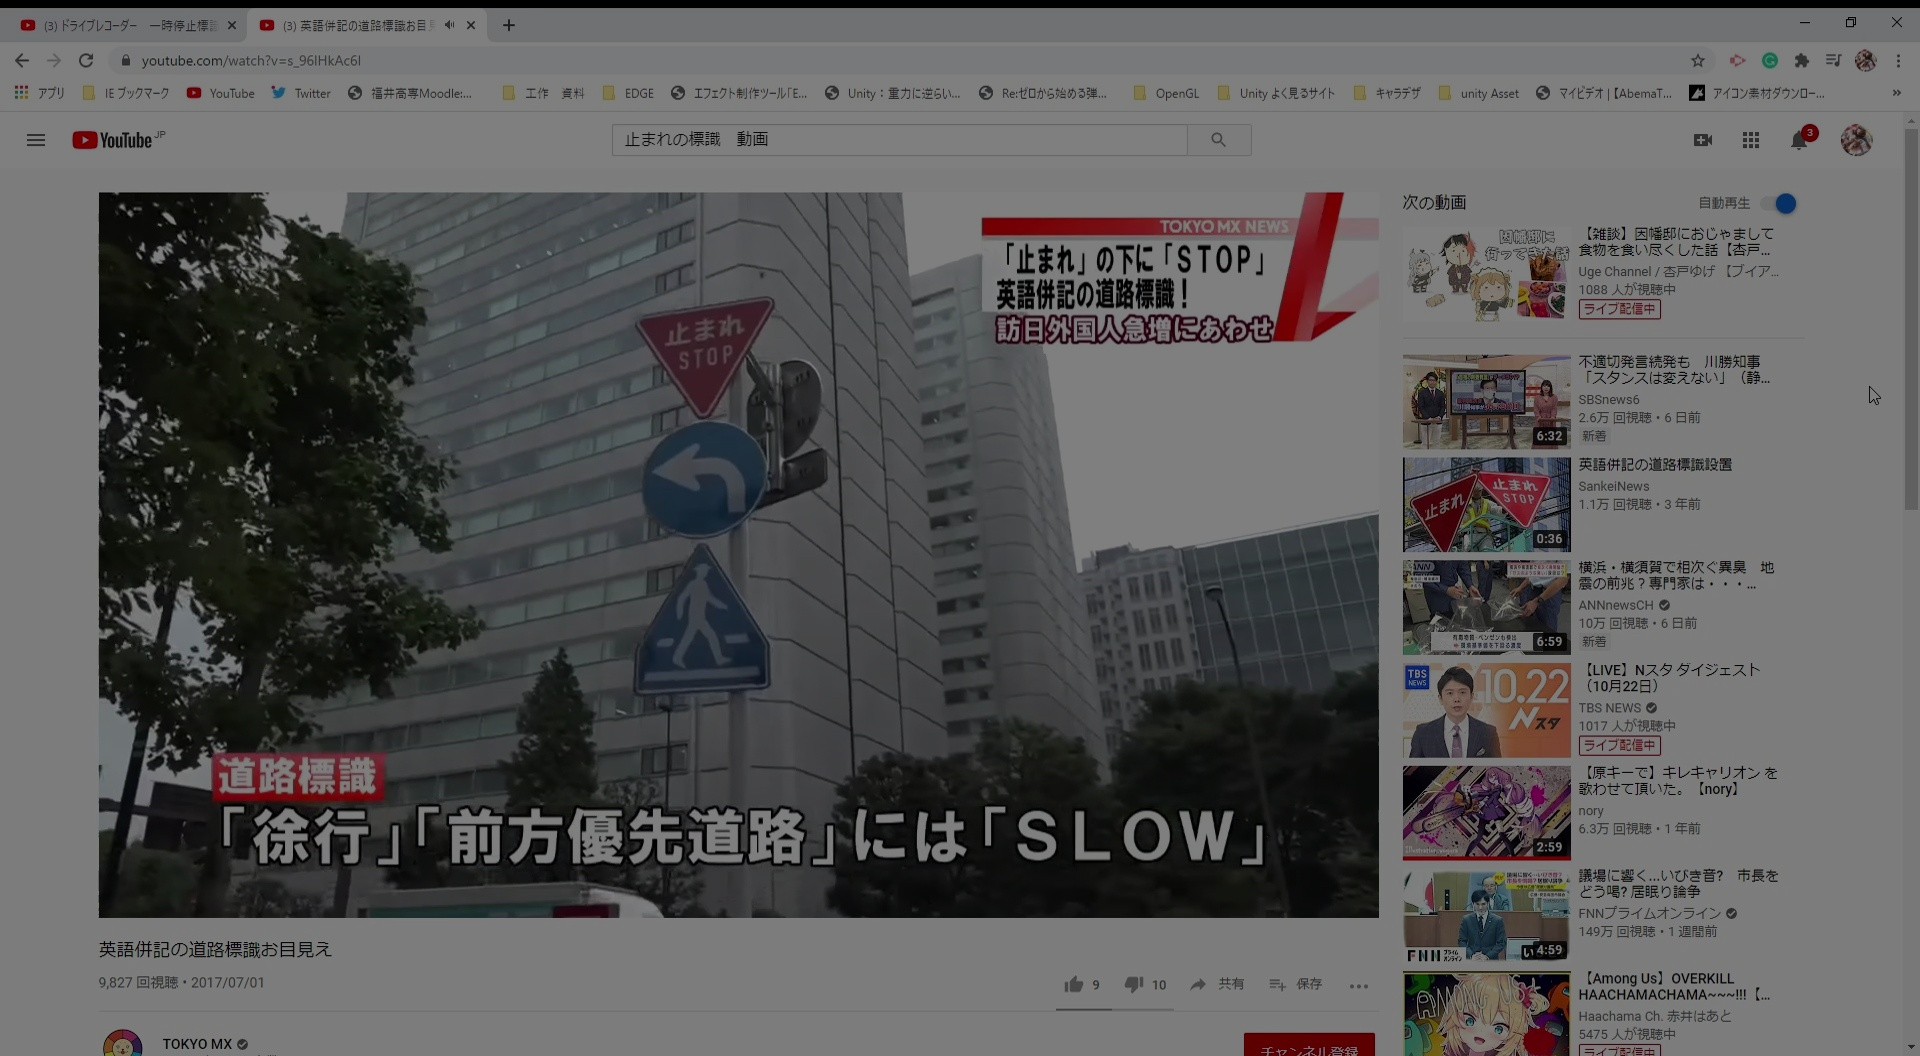Regulatory_sign_triangle: (633, 297, 788, 427)
